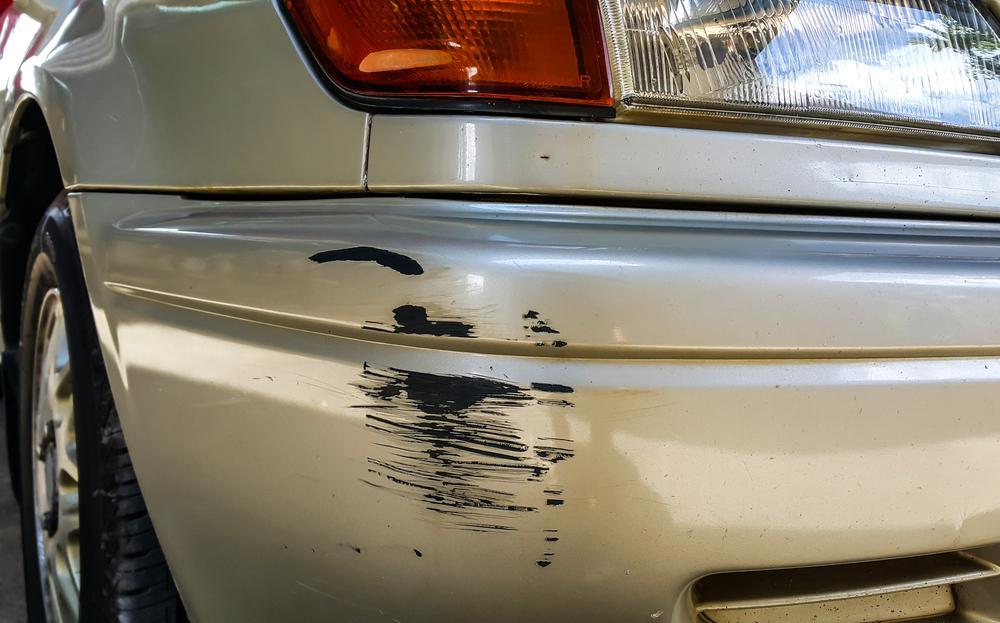scratch: (295, 243, 578, 568)
